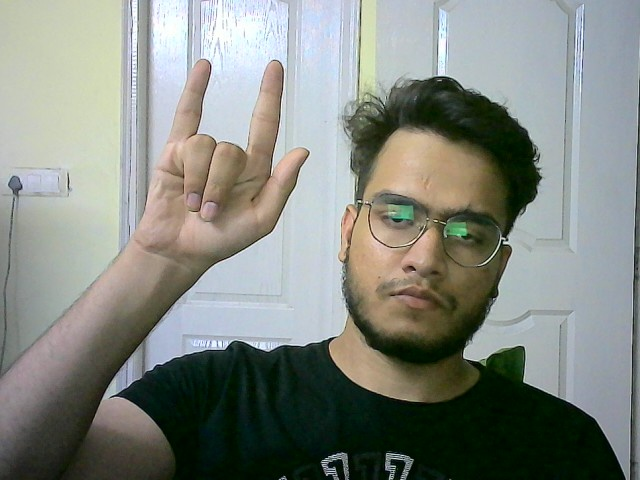I Love You: (139, 45, 315, 278)
